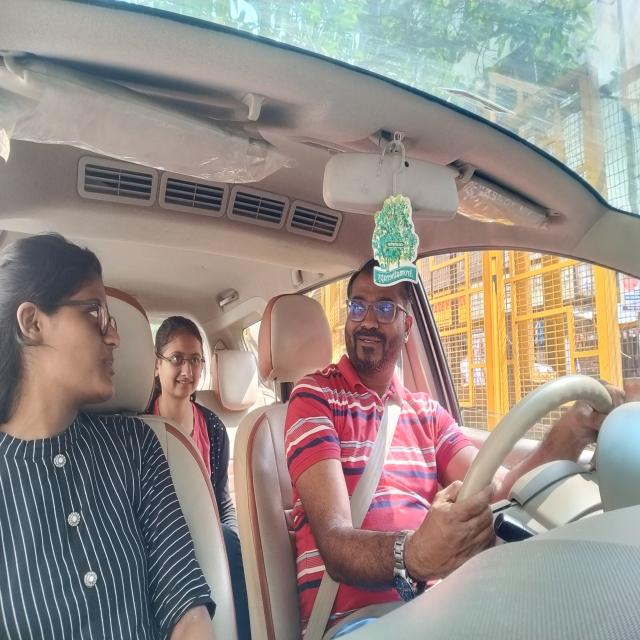LeftRight: (339, 262, 417, 389)
person: (0, 232, 133, 421), (153, 315, 215, 403)
